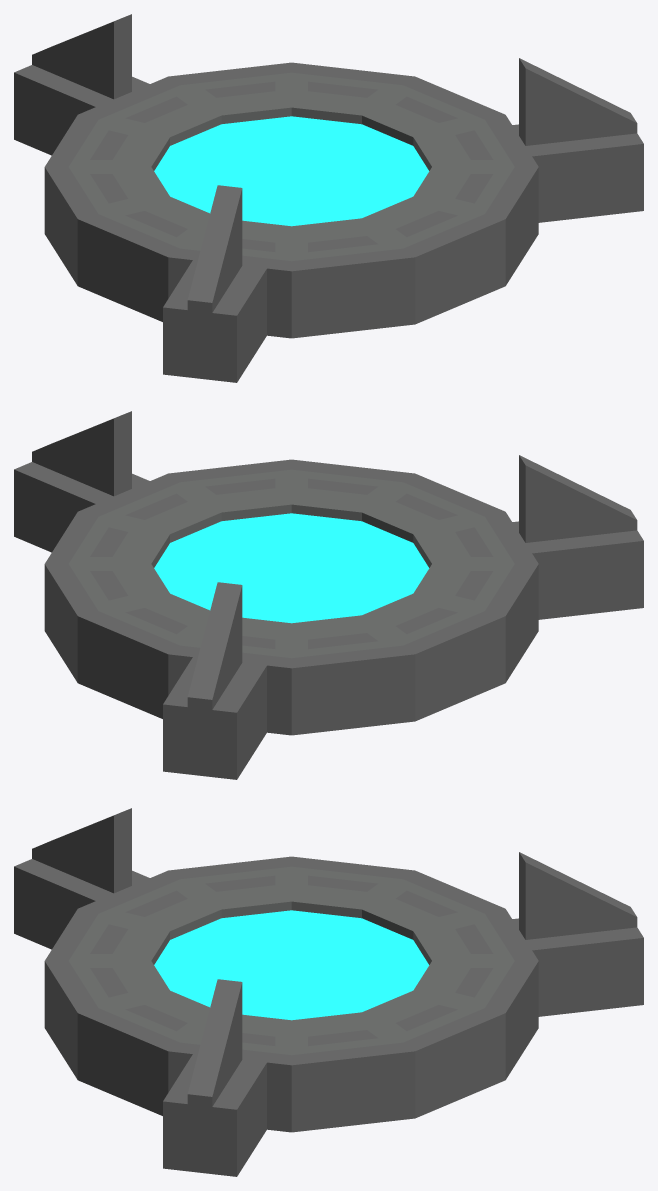
Rendered from transporter.fbx.
The picture shows the model from 3 angles, top to bottom: view 1: azimuth 30°, elevation 25°; view 2: azimuth 150°, elevation 25°; view 3: azimuth 270°, elevation 25°; orthographic projection.
Parts seen in each view (by area): view 1: Cylinder.001; view 2: Cylinder.001; view 3: Cylinder.001.
Part boxes in pixels (x1,y1,x2,y2): Cylinder.001: (14,14,643,382); Cylinder.001: (14,411,643,779); Cylinder.001: (14,808,643,1176).
Size of the model in its own units: 255 by 64.74 by 255.
